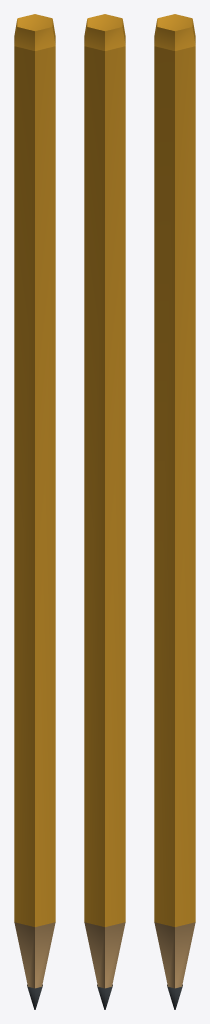
The model's file is VLAB_pencil.fbx.
3 renders of one model, left to right at view 1: azimuth 90°, elevation 25°; view 2: azimuth 150°, elevation 25°; view 3: azimuth 270°, elevation 25°, orthographic.
Visible parts, largest first — view 1: VLAB_pencil_Body_VIS, VLAB_pencil_GraphiteTip_VIS; view 2: VLAB_pencil_Body_VIS, VLAB_pencil_GraphiteTip_VIS; view 3: VLAB_pencil_Body_VIS, VLAB_pencil_GraphiteTip_VIS.
Boxes of the visible parts, x1,y1,x2,y2 form: VLAB_pencil_Body_VIS: (14,14,55,988); VLAB_pencil_GraphiteTip_VIS: (27,984,42,1009); VLAB_pencil_Body_VIS: (84,14,125,988); VLAB_pencil_GraphiteTip_VIS: (97,984,112,1009); VLAB_pencil_Body_VIS: (154,14,195,988); VLAB_pencil_GraphiteTip_VIS: (167,984,182,1009).
Size of the model in its own units: 0.007 by 0.16 by 0.00606.
